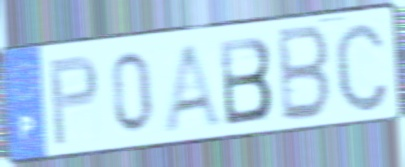0: (109, 47, 158, 138)
A: (160, 39, 226, 133)
B: (277, 22, 334, 126), (216, 33, 275, 129)
C: (331, 18, 392, 116)
P: (46, 51, 101, 149)
